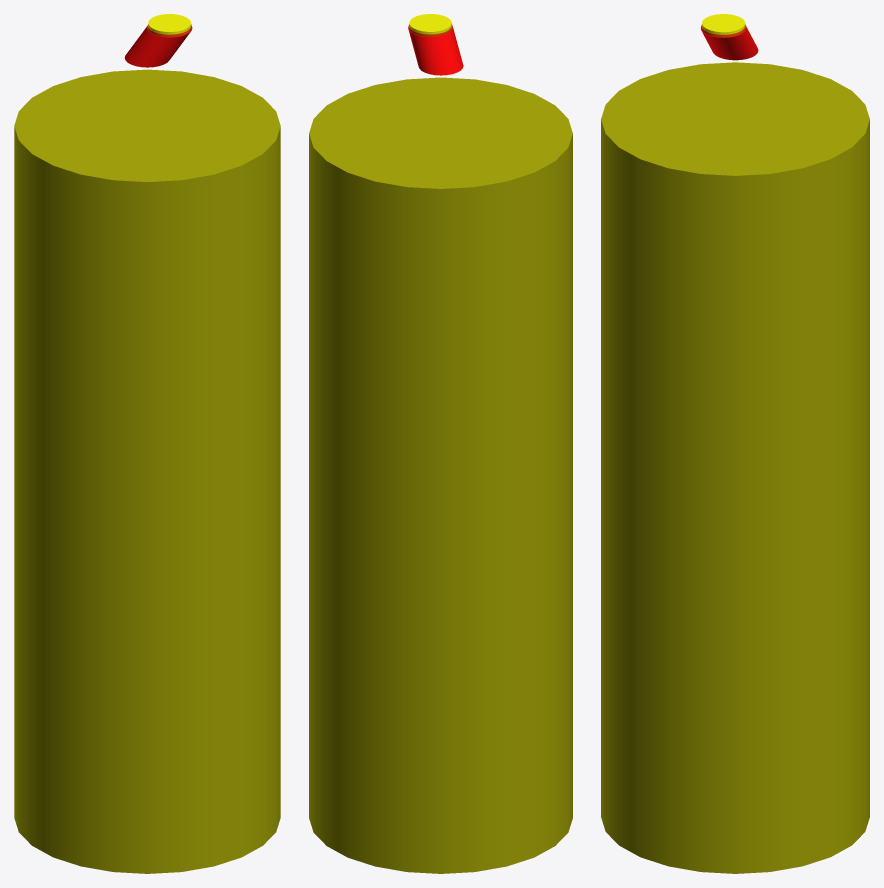
The model's file is candle.dae.
The picture shows the model from 3 angles, left to right: view 1: azimuth 30°, elevation 25°; view 2: azimuth 150°, elevation 25°; view 3: azimuth 270°, elevation 25°; orthographic projection.
Visible parts, largest first — view 1: group_0 (×3); view 2: group_0 (×3); view 3: group_0 (×3).
Boxes of the visible parts, x1,y1,x2,y2 form: group_0 (×3): (14, 14, 280, 873); group_0 (×3): (309, 14, 572, 873); group_0 (×3): (601, 14, 869, 873).
Size of the model in its own units: 6 by 6 by 19.75.
